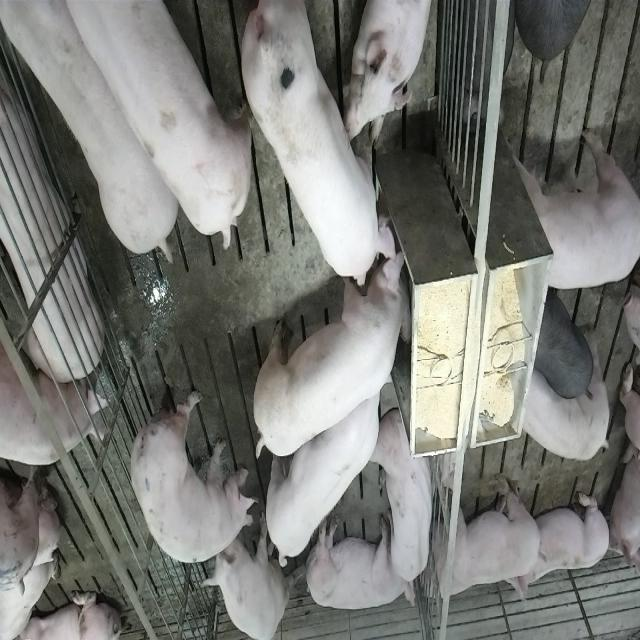Feeding: (236, 5, 402, 291), (256, 232, 419, 464)
Lateral_lying: (0, 34, 101, 384), (304, 512, 416, 612)
Sitting: (202, 516, 288, 638)
Standing: (51, 0, 250, 249), (0, 0, 175, 261), (262, 352, 394, 568), (124, 365, 252, 563), (506, 126, 639, 290), (422, 474, 543, 608), (0, 332, 106, 466), (512, 363, 612, 461), (532, 291, 596, 403)
Sternal_lying: (348, 0, 435, 145), (374, 408, 438, 592), (515, 487, 612, 607)
